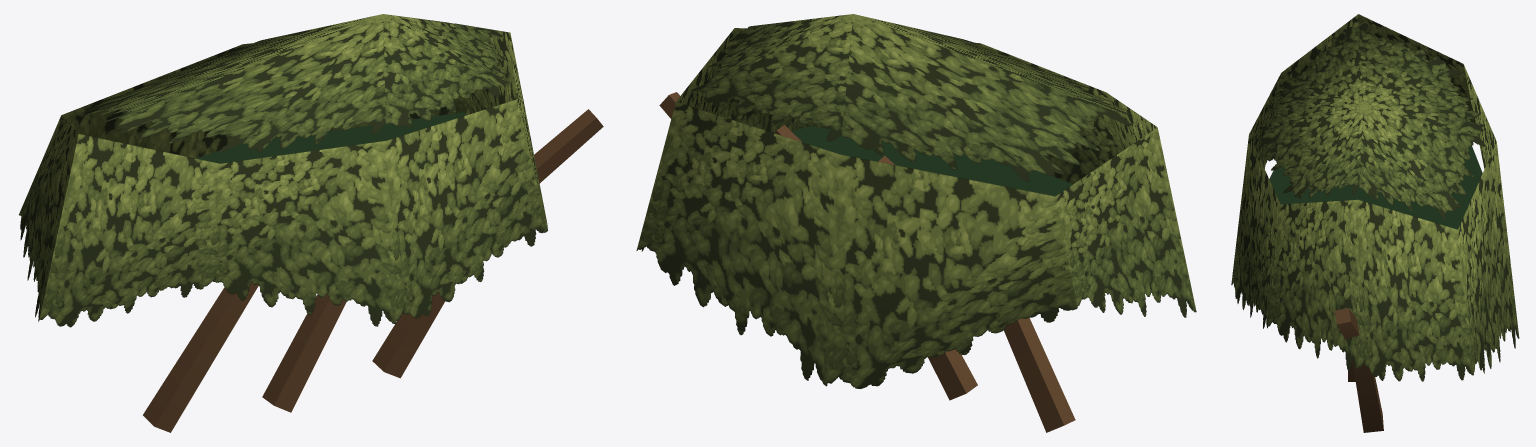
The model's file is Hedge.fbx.
3 views of the same model, side by side, from view 1: azimuth 30°, elevation 25°; view 2: azimuth 150°, elevation 25°; view 3: azimuth 270°, elevation 25° (orthographic). The views are drawn at different scales.
Visible parts, largest first — view 1: Hedge; view 2: Hedge; view 3: Hedge.
Part boxes in pixels (x1=…): Hedge: x1=19, y1=14, x2=603, y2=432; Hedge: x1=636, y1=14, x2=1196, y2=432; Hedge: x1=1231, y1=14, x2=1519, y2=432.
Bounding box in the file's own units: 1.74 × 1.1 × 0.9147.
